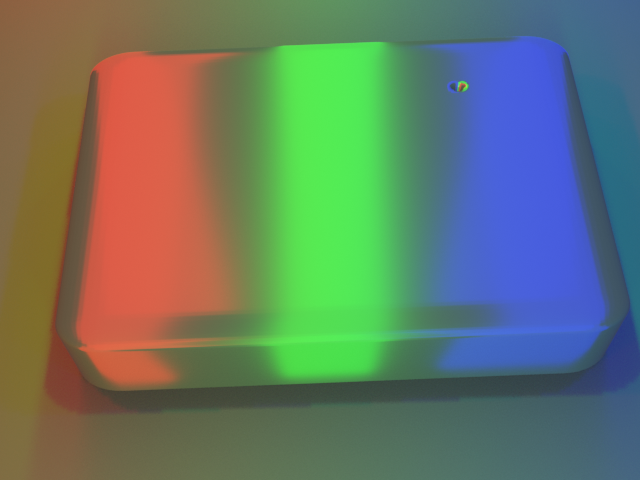dent: (451, 53, 493, 98)
